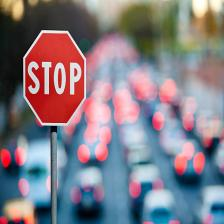Stop-sign: (20, 25, 92, 130)
